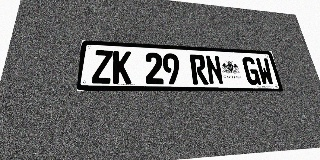2: (145, 52, 164, 84)
9: (162, 53, 181, 84)
G: (241, 57, 261, 85)
K: (112, 51, 131, 84)
N: (205, 55, 224, 85)
R: (189, 54, 209, 85)
W: (255, 57, 275, 85)
Z: (92, 50, 113, 84)
